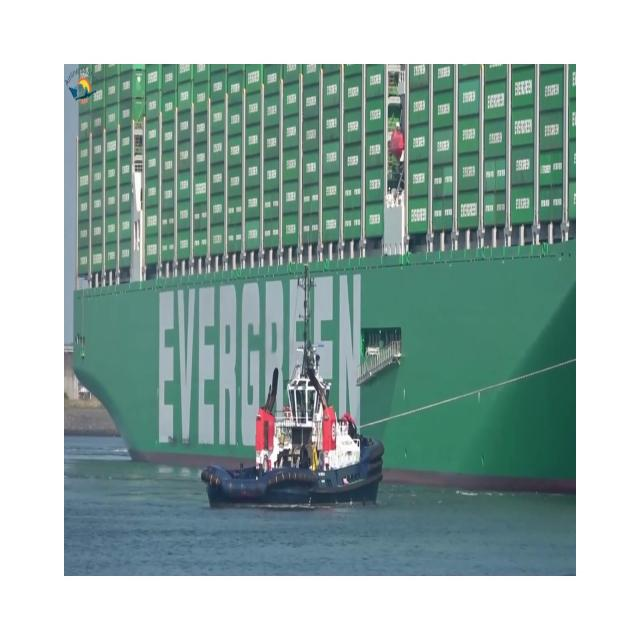OCR: (148, 266, 376, 484)
